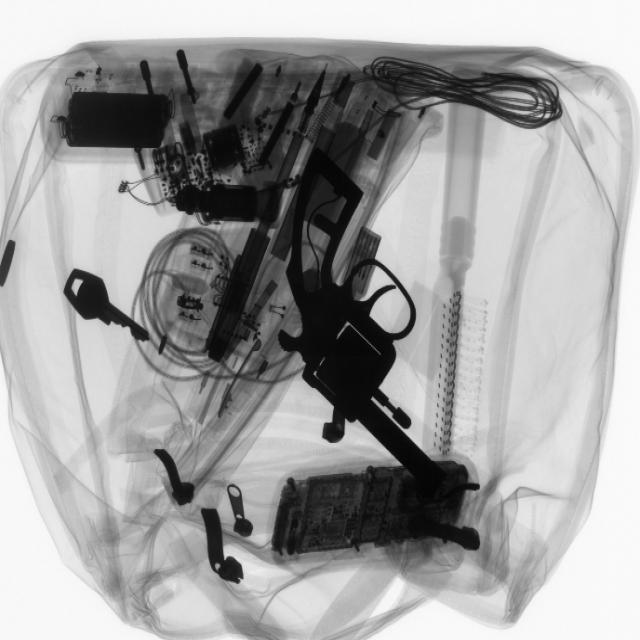GUN: (280, 144, 444, 520)
